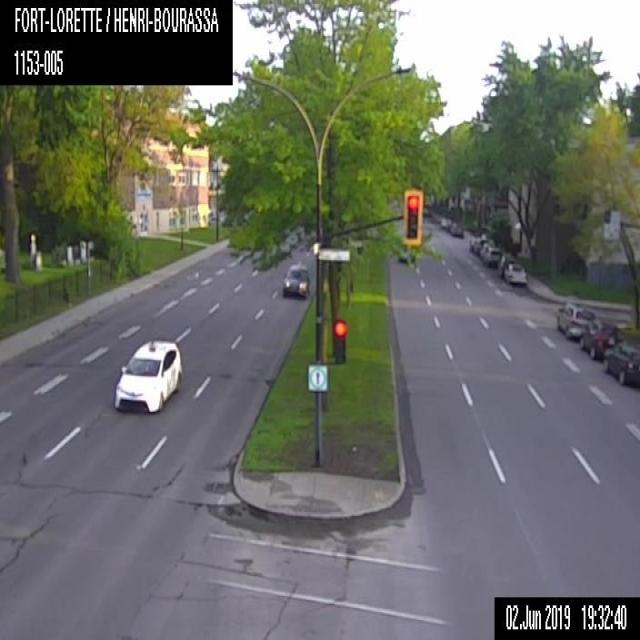vehicle: (112, 337, 182, 416), (554, 301, 601, 341), (604, 341, 639, 388), (580, 320, 621, 359), (280, 263, 311, 297), (504, 263, 526, 284), (483, 246, 504, 267), (498, 252, 516, 276), (469, 232, 486, 254), (479, 240, 495, 258), (449, 220, 464, 234)
